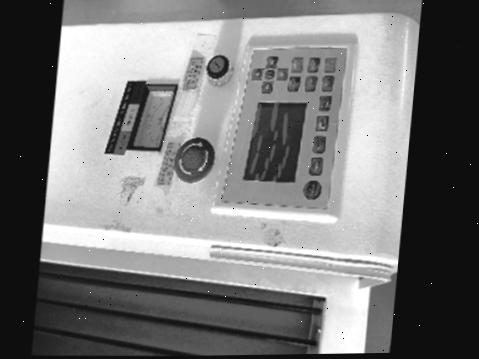Amp_Meter: (131, 85, 176, 149)
Display: (243, 101, 306, 183)
Down_button: (275, 68, 288, 80)
Emergency_Stop: (173, 137, 214, 183)
Enter_button: (290, 57, 303, 72)
Esc_button: (287, 75, 300, 91)
File_button: (320, 75, 334, 91)
Frame_button: (306, 58, 319, 72)
Left_button: (261, 80, 273, 93)
Max-Power_button: (318, 95, 331, 111)
Min-Power_button: (315, 115, 328, 131)
Origin_button: (304, 75, 317, 91)
Power_switch: (206, 54, 233, 85)
Pulse_button: (310, 158, 324, 174)
Reset_button: (303, 180, 321, 200)
Right_button: (265, 55, 278, 68)
Speed_button: (312, 136, 326, 153)
Start-Pause_button: (323, 57, 336, 71)
Up_button: (251, 68, 263, 79)
Z_U_button: (264, 68, 274, 80)
